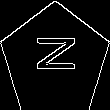N_W: (31, 41, 79, 81)
